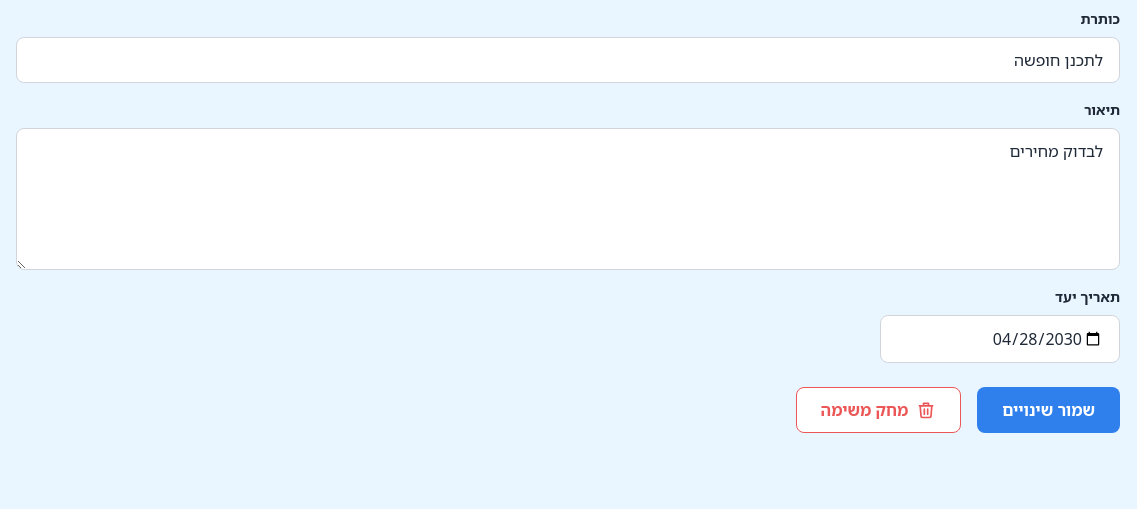
Test: TaskDetails › saves all three fields with PATCH and reports the updated task
Replace the text in the field labelled "כותרת" with "  חופשה בצפון " at (568, 60), box [16,37,1120,83]
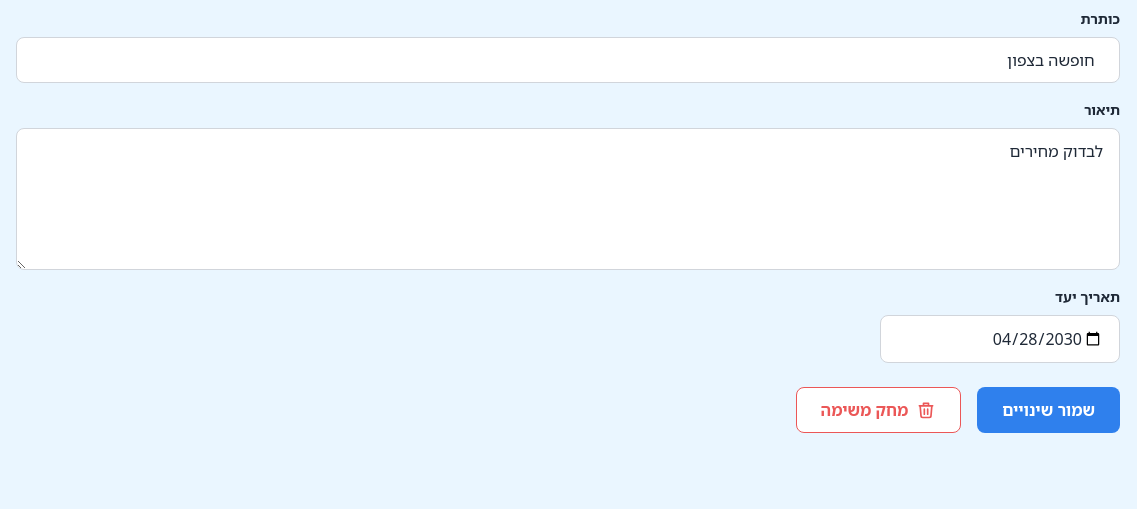
Clear the date field labelled "תאריך יעד" at (1000, 339), box [880,315,1120,363]
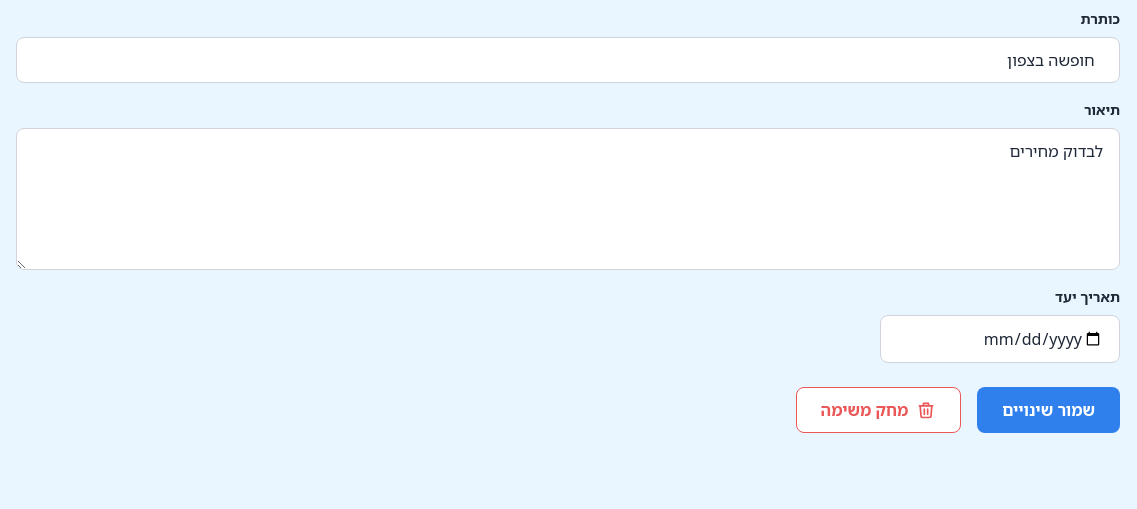
Click the button "שמור שינויים" at (1049, 410), box [977,387,1120,433]
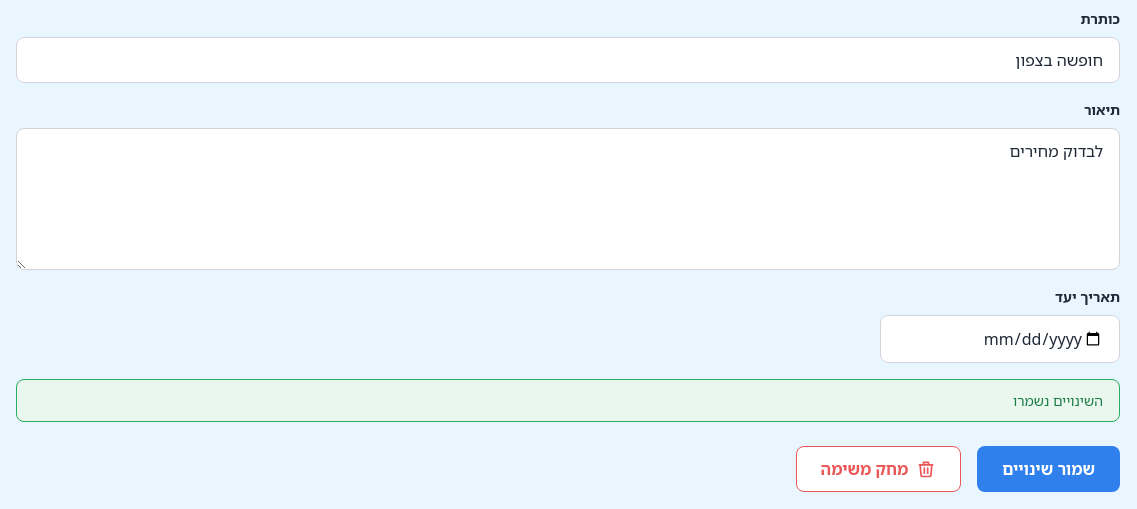
Now the message reads "השינויים נשמרו", box [1013,391,1103,410]
